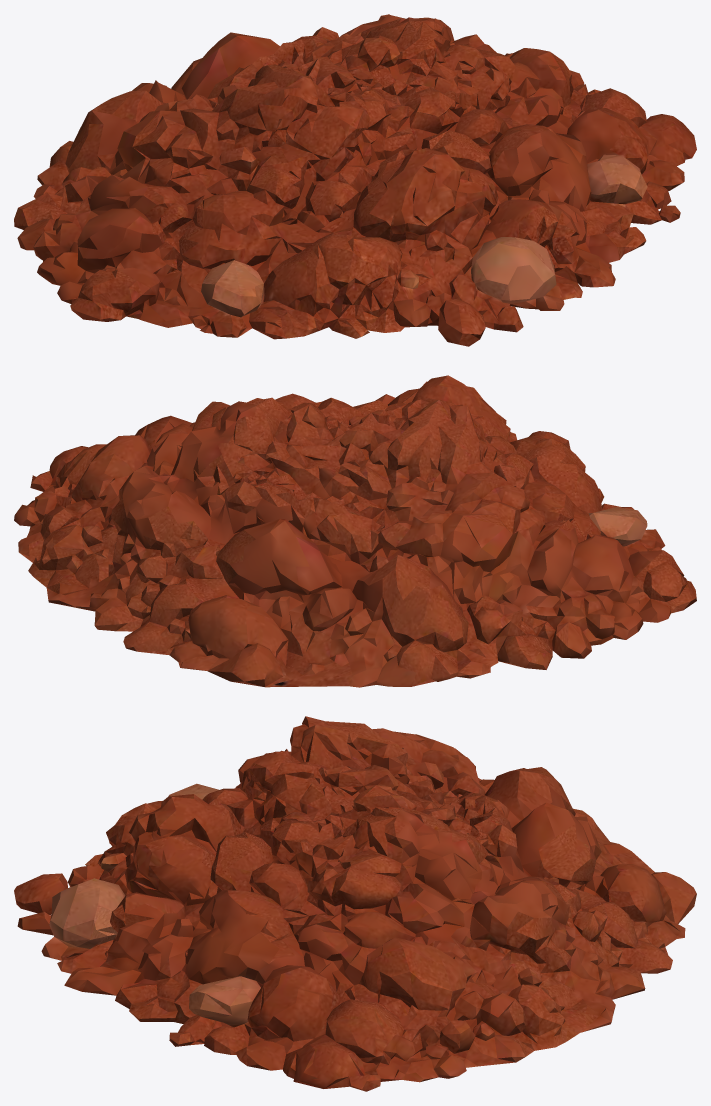
File: soilmound.glb
3 renders of one model, top to bottom at view 1: azimuth 30°, elevation 25°; view 2: azimuth 150°, elevation 25°; view 3: azimuth 270°, elevation 25°, orthographic. The views are drawn at different scales.
Parts seen in each view (by area): view 1: output_unwrapped; view 2: output_unwrapped; view 3: output_unwrapped.
Boxes of the visible parts, x1,y1,x2,y2 form: output_unwrapped: (14, 14, 696, 346); output_unwrapped: (14, 375, 696, 687); output_unwrapped: (14, 716, 696, 1091).
Size of the model in its own units: 1.89 by 0.4693 by 1.7.
Materials: 1 (1 with a texture image).
